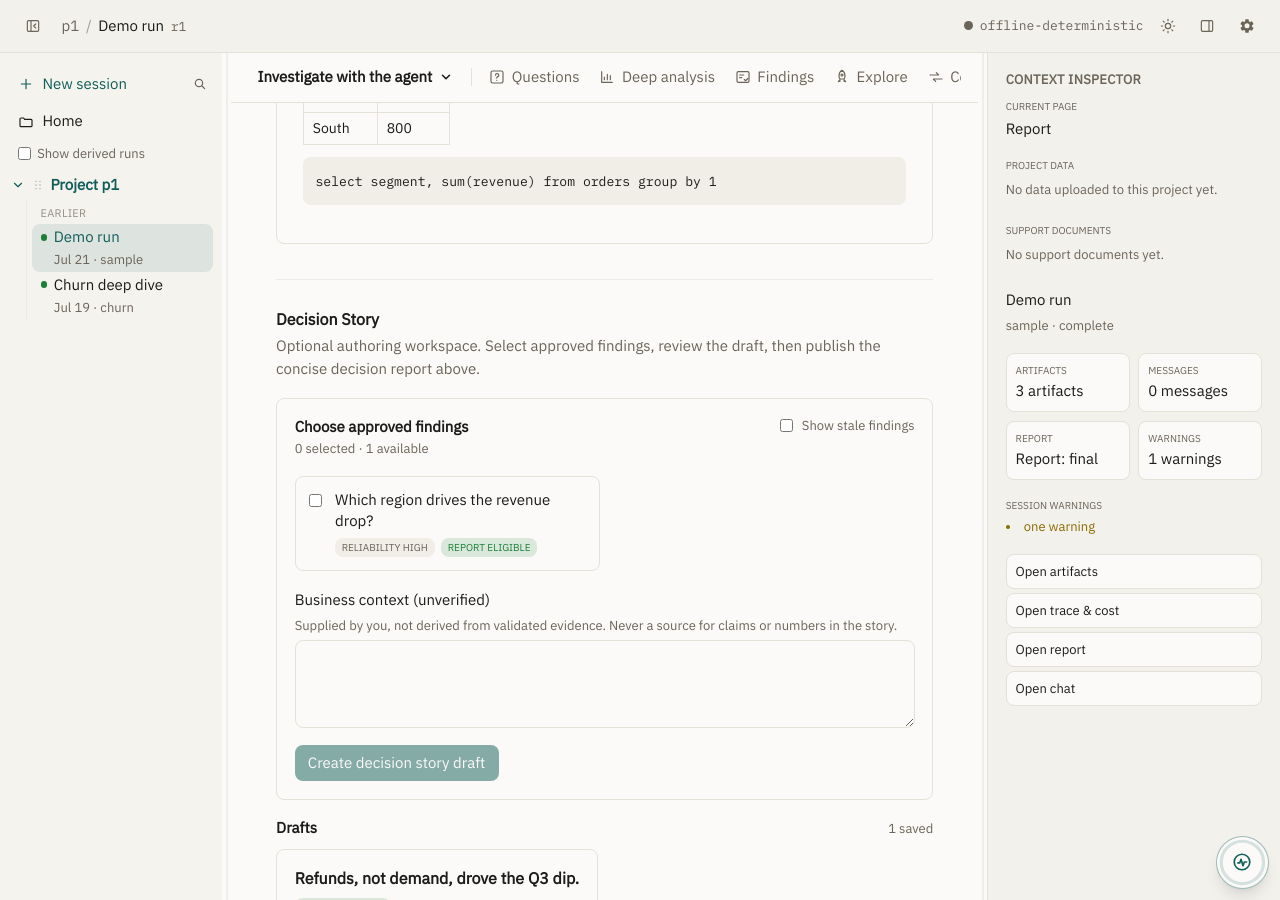
Test: Decision Story curation on the Report page › shows plain-language guidance, not the raw code, on a 409 busy conflict
(page scrolled)
Check: the heading "Decision Story" is shown, box [276, 309, 379, 329]
Click the checkbox labelled "Which region drives the revenue drop?". click: (315, 501)
box: [309, 494, 322, 507]
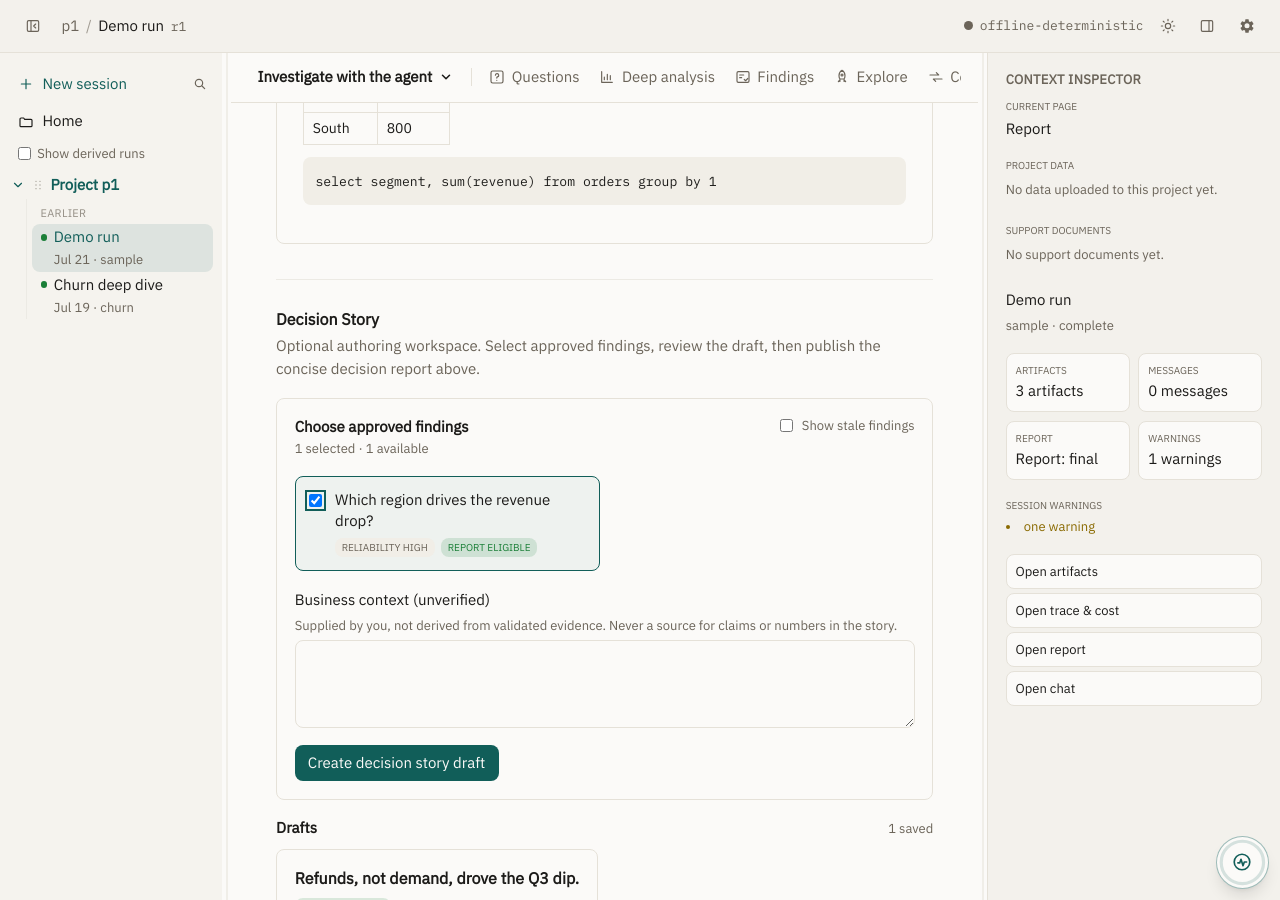
Click the button "Create decision story draft". click: (397, 763)
box: [295, 745, 499, 781]
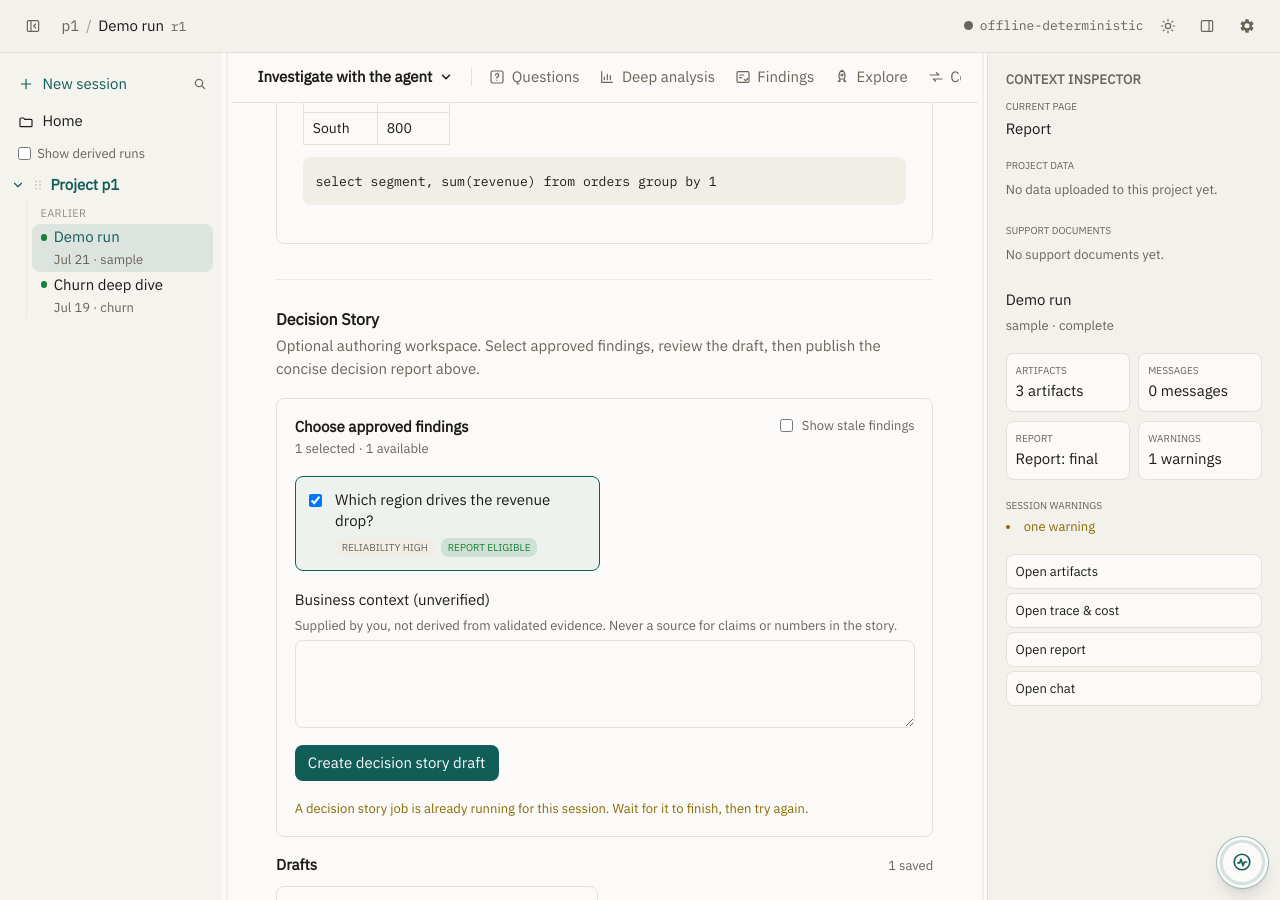
Check: the message does not show "decision_story_busy", box [295, 800, 808, 817]
Check: the message shows "A decision story job is already running for this session. Wait for it to finish, then try again.", box [295, 800, 808, 817]
